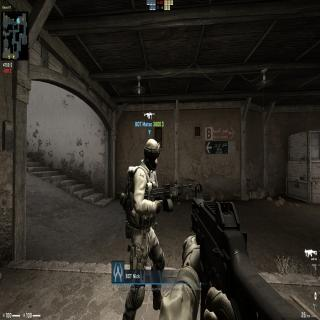CT-Head: (142, 136, 162, 172)
